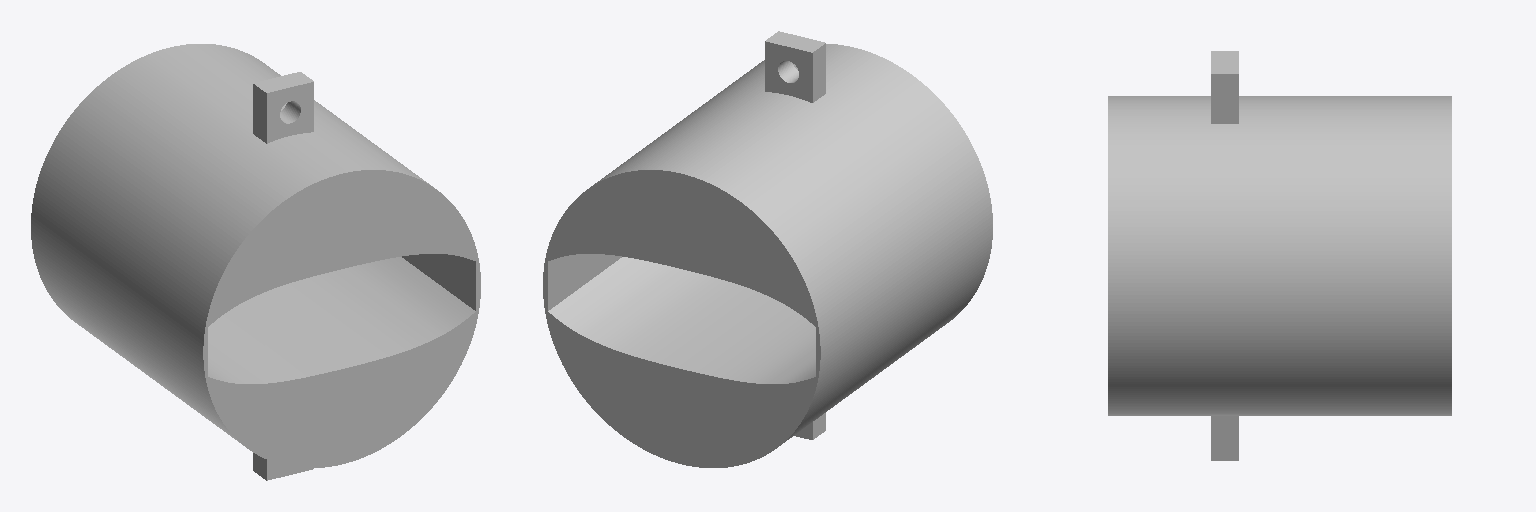
Rendered from cammic_8ch_holder v1.obj.
3 views of the same model, side by side, from view 1: azimuth 30°, elevation 25°; view 2: azimuth 150°, elevation 25°; view 3: azimuth 270°, elevation 25° (orthographic).
Parts seen in each view (by area): view 1: Body1, Body3, Body4; view 2: Body1, Body3; view 3: Body1, Body3, Body4.
Part boxes in pixels (x1,y1,x2,y2): Body1: (31,44,480,467); Body3: (253,72,313,143); Body4: (253,453,313,480); Body1: (543,44,992,467); Body3: (765,31,825,102); Body1: (1108,96,1451,415); Body3: (1211,51,1238,123); Body4: (1211,416,1238,460).
Size of the model in its own units: 46.5 by 62 by 50.